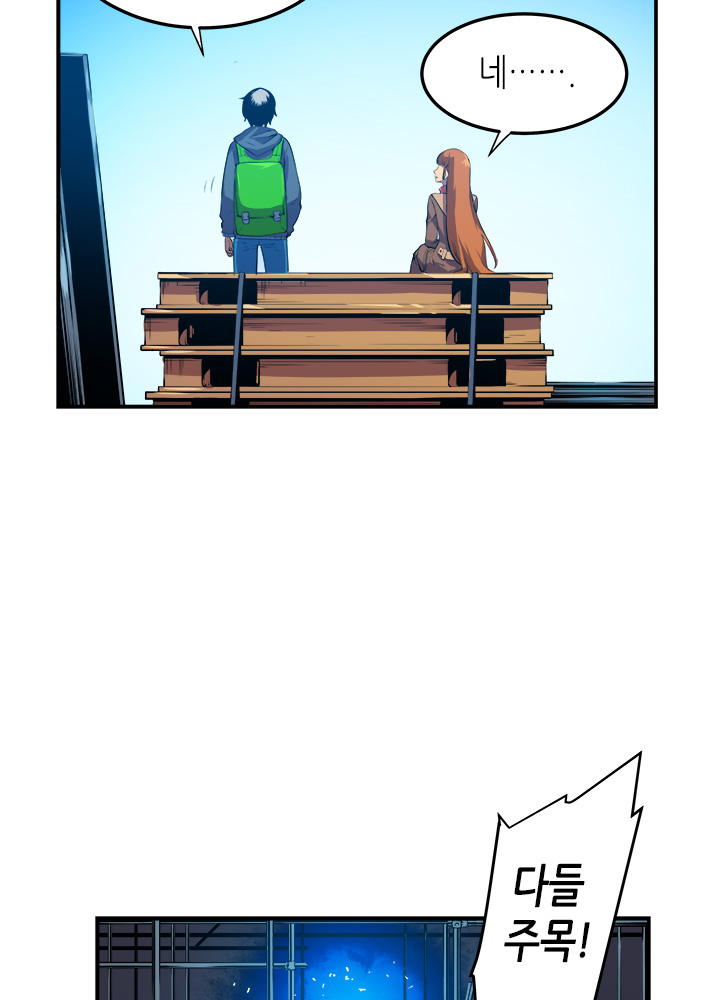dialog box: (427, 721, 694, 1000), (401, 2, 646, 172), (84, 1, 320, 64)
text: (483, 836, 613, 983), (450, 42, 601, 108)
